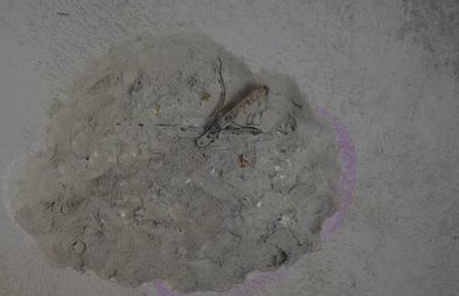Exposed reinforcement: (196, 87, 267, 148)
Spalling: (9, 29, 343, 296)
